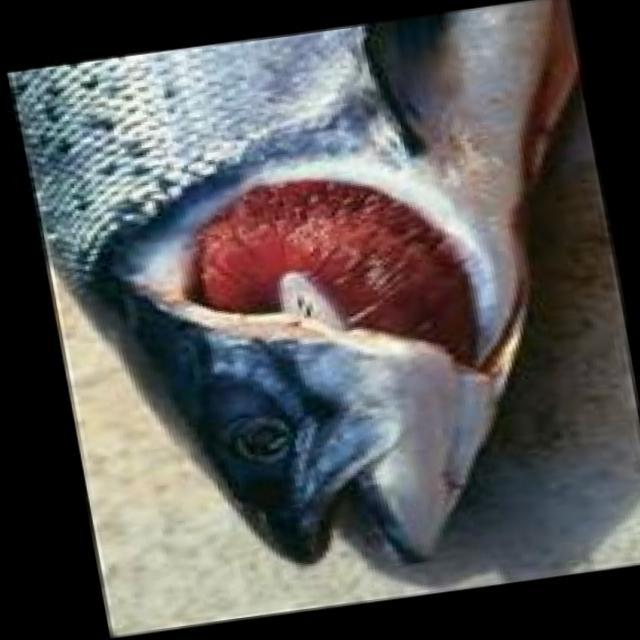Gill Disease: (72, 130, 564, 415)
